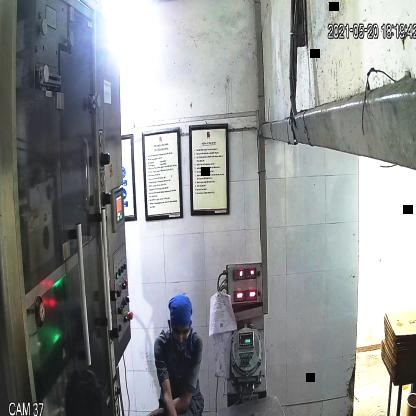goggles: (166, 321, 194, 344)
